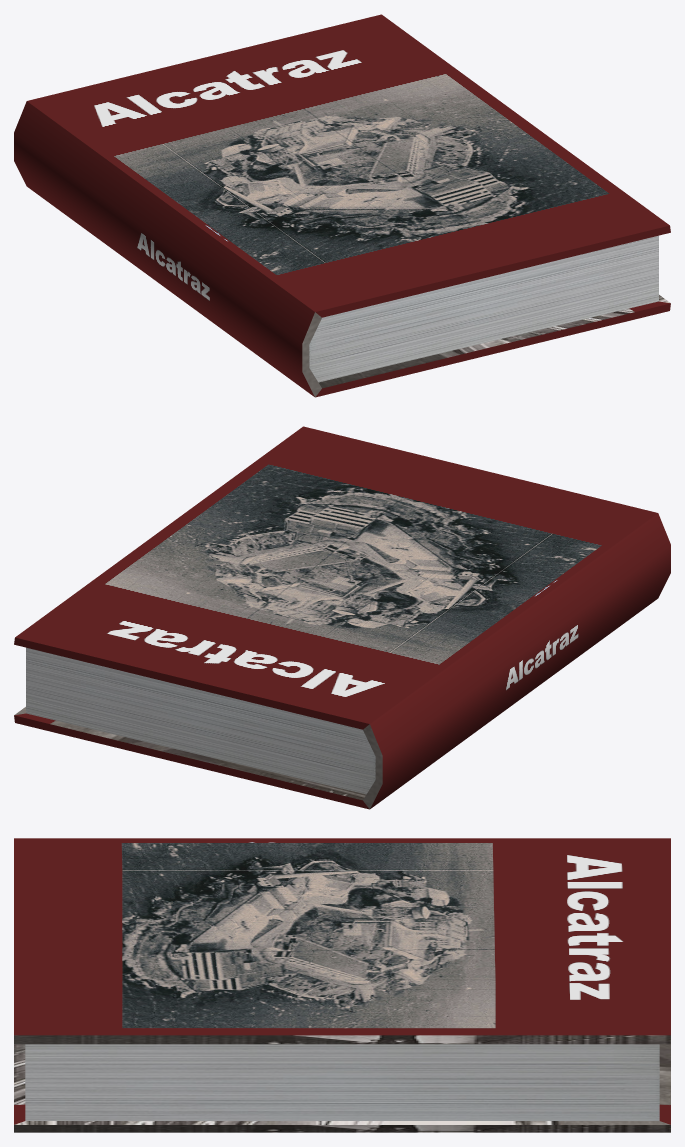
Rendered from Book 1.FBX.
3 renders of one model, top to bottom at view 1: azimuth 30°, elevation 25°; view 2: azimuth 150°, elevation 25°; view 3: azimuth 270°, elevation 25°, orthographic. The views are drawn at different scales.
Parts seen in each view (by area): view 1: Book 1; view 2: Book 1; view 3: Book 1.
Part boxes in pixels (x1,y1,x2,y2): Book 1: [14, 14, 670, 397]; Book 1: [14, 426, 670, 809]; Book 1: [14, 838, 670, 1132].
Size of the model in its own units: 20.44 by 4.53 by 27.69.
Materials: 1 (1 with a texture image).
